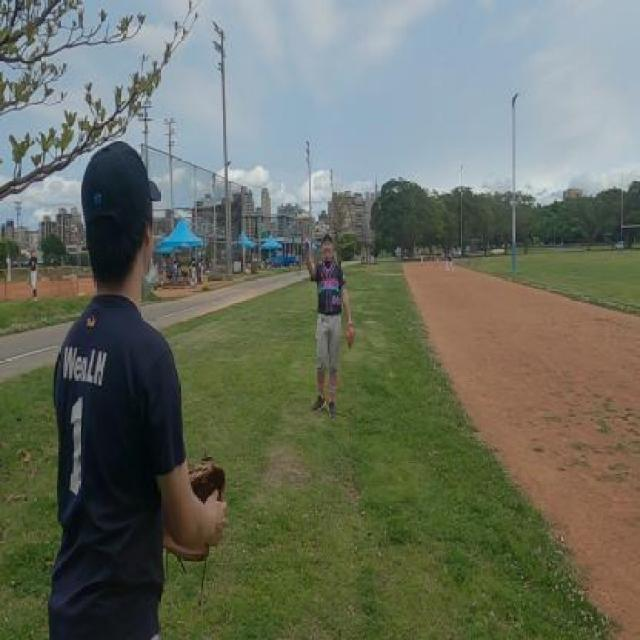baseball: (298, 206, 302, 214)
